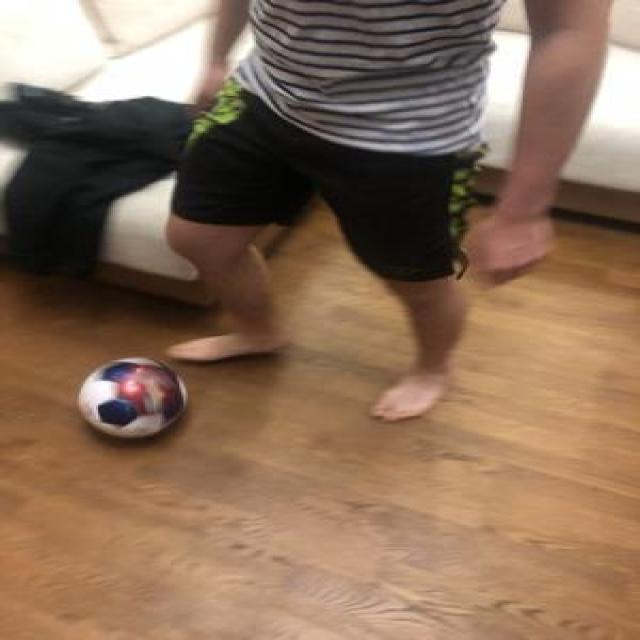Soccer Ball: (74, 355, 188, 440)
